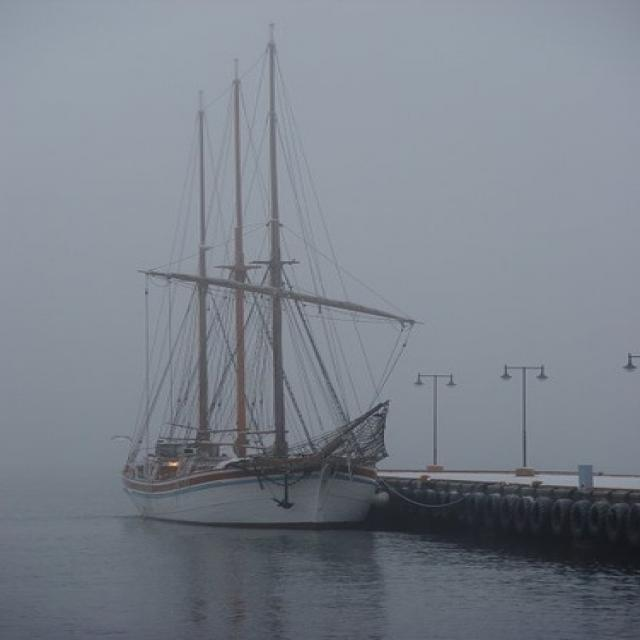Ship: (114, 41, 399, 527)
